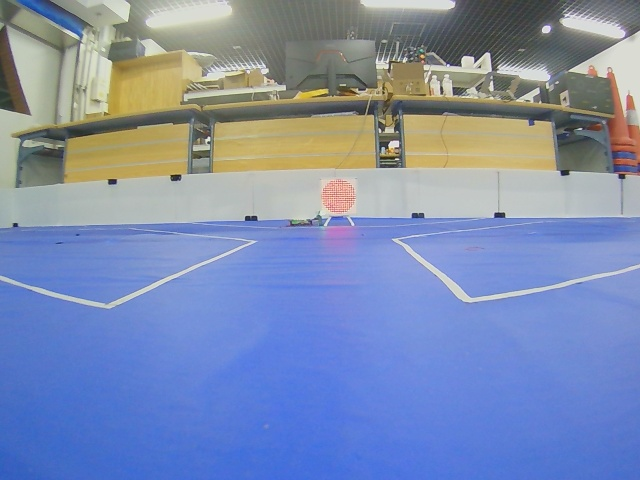red: (321, 179, 356, 215)
